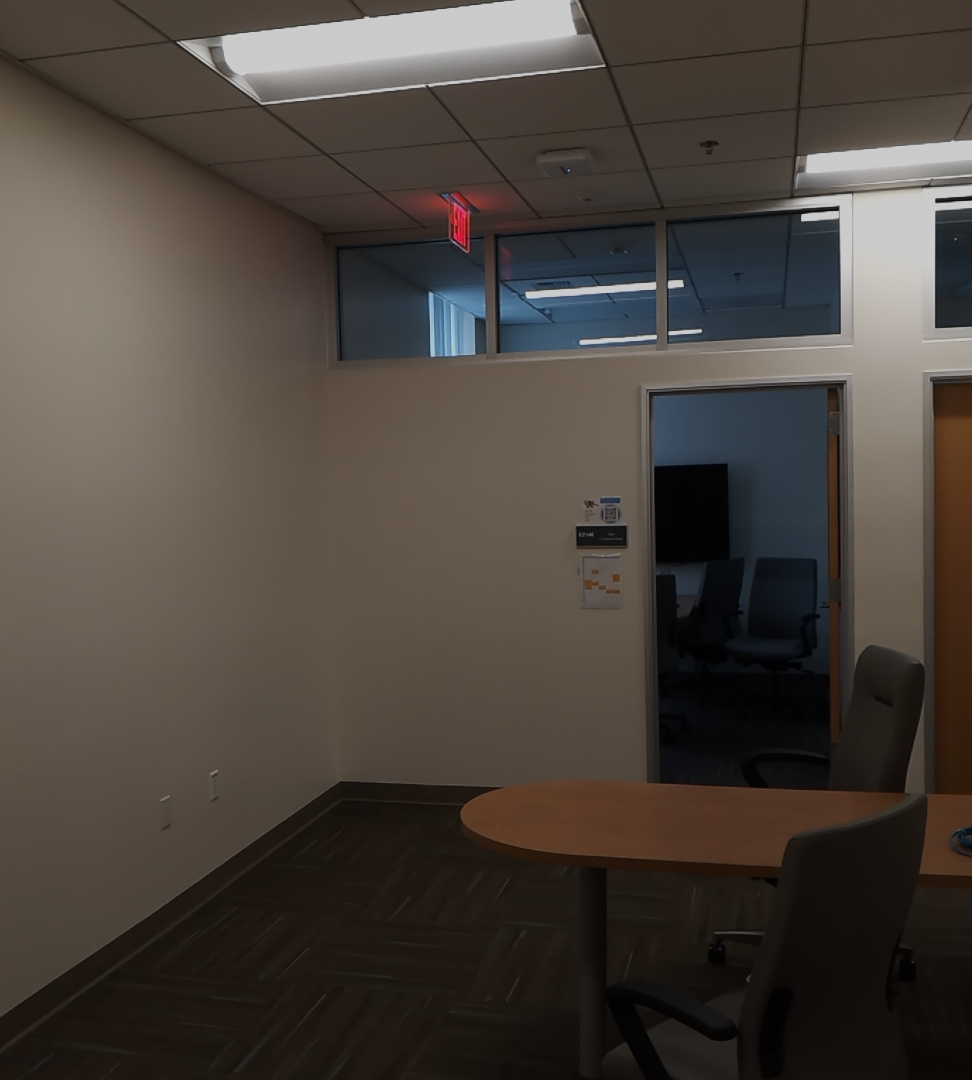emergency_exit: (438, 188, 477, 255)
